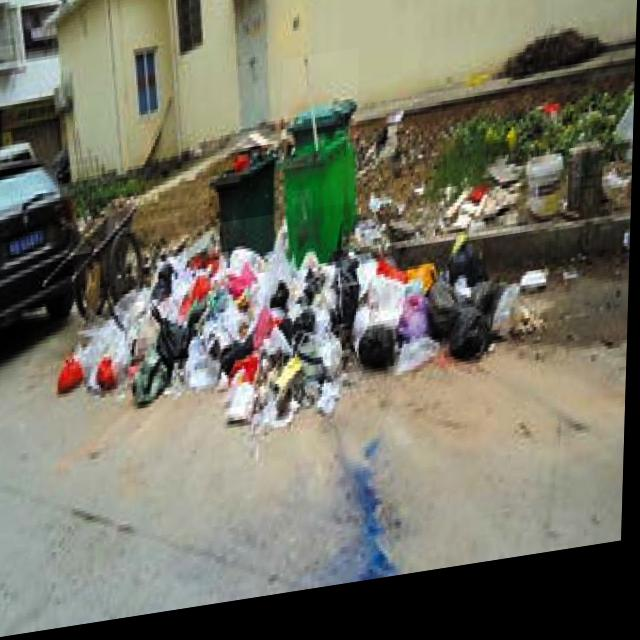garbage: (55, 190, 549, 464)
overflow: (279, 59, 359, 273), (210, 153, 276, 265)
